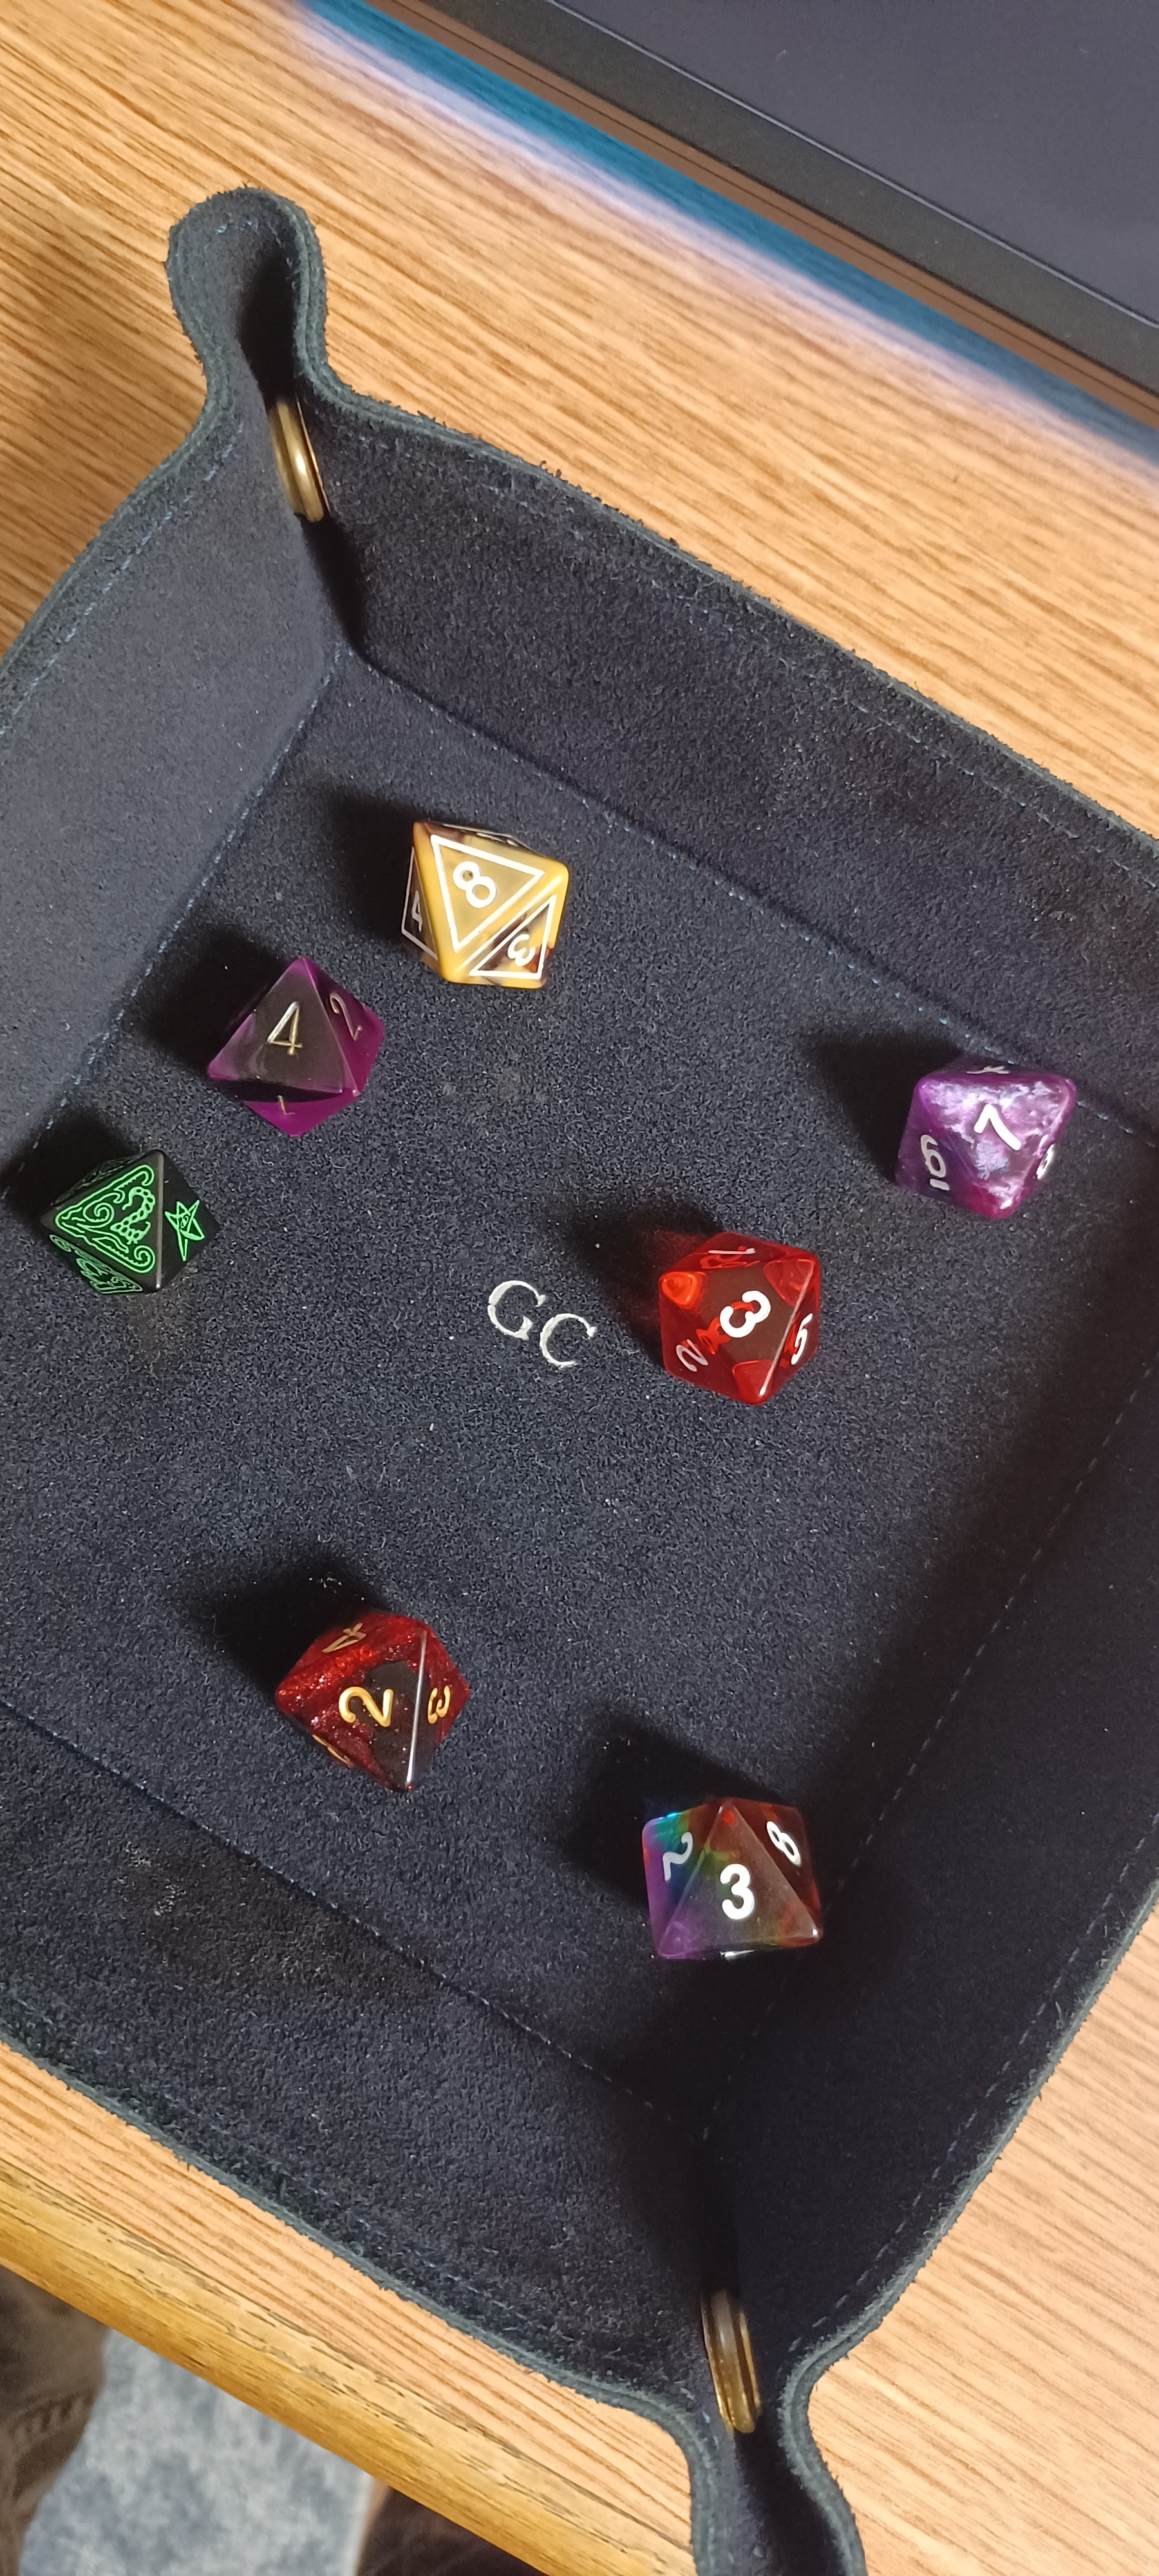eight: (360, 779, 594, 1035)
four: (189, 946, 401, 1158)
seven: (855, 1010, 1110, 1244)
three: (578, 1730, 877, 2016), (594, 1198, 857, 1439)
two: (248, 1567, 522, 1825), (15, 1125, 251, 1345)
